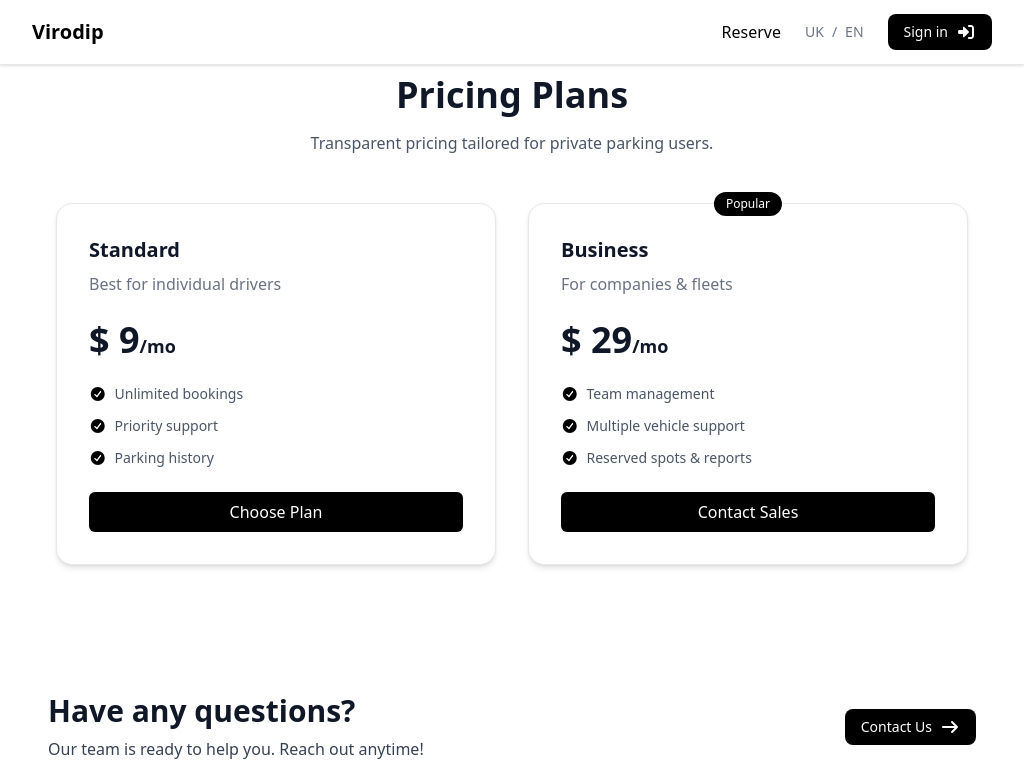
Test case: Pricing section — tier card behaviour › shows auth modal if user is not logged in
(page scrolled)
What coordinates should you click on to do the following:
click the element with test id "tier-card"
I would click on:
 (276, 384)
Its box is [56,203,496,565].
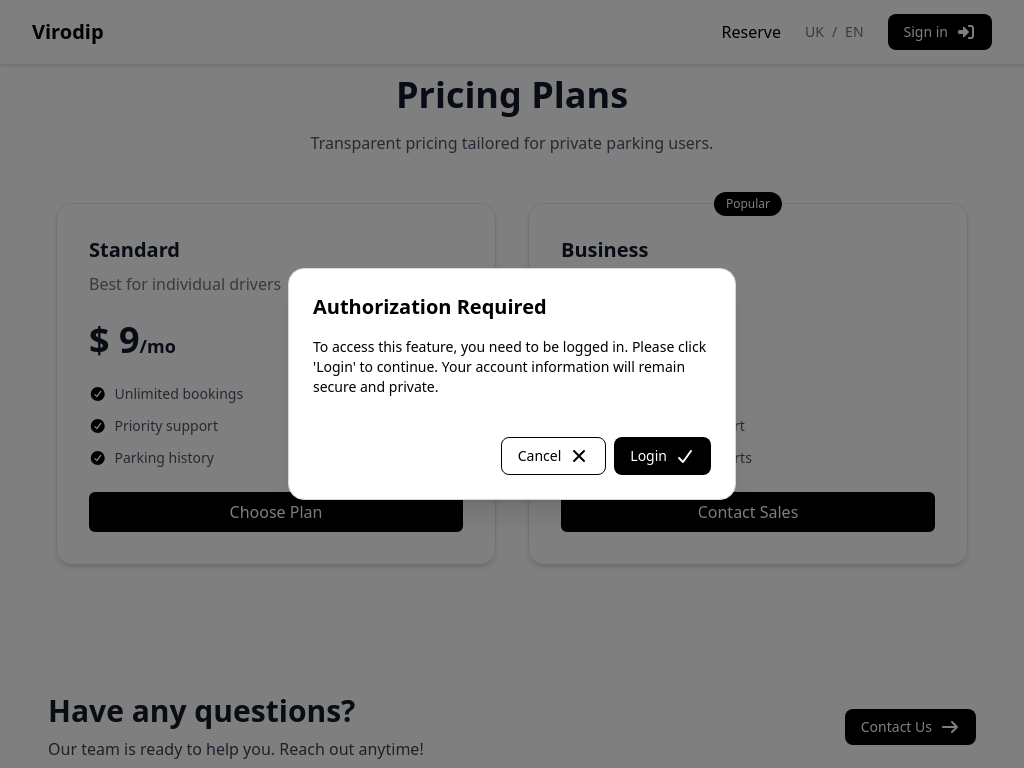
Check: the text "Login" is shown, box [313,337,706,396]
Check: the heading "Authorization Required" is shown, box [313,293,547,320]
